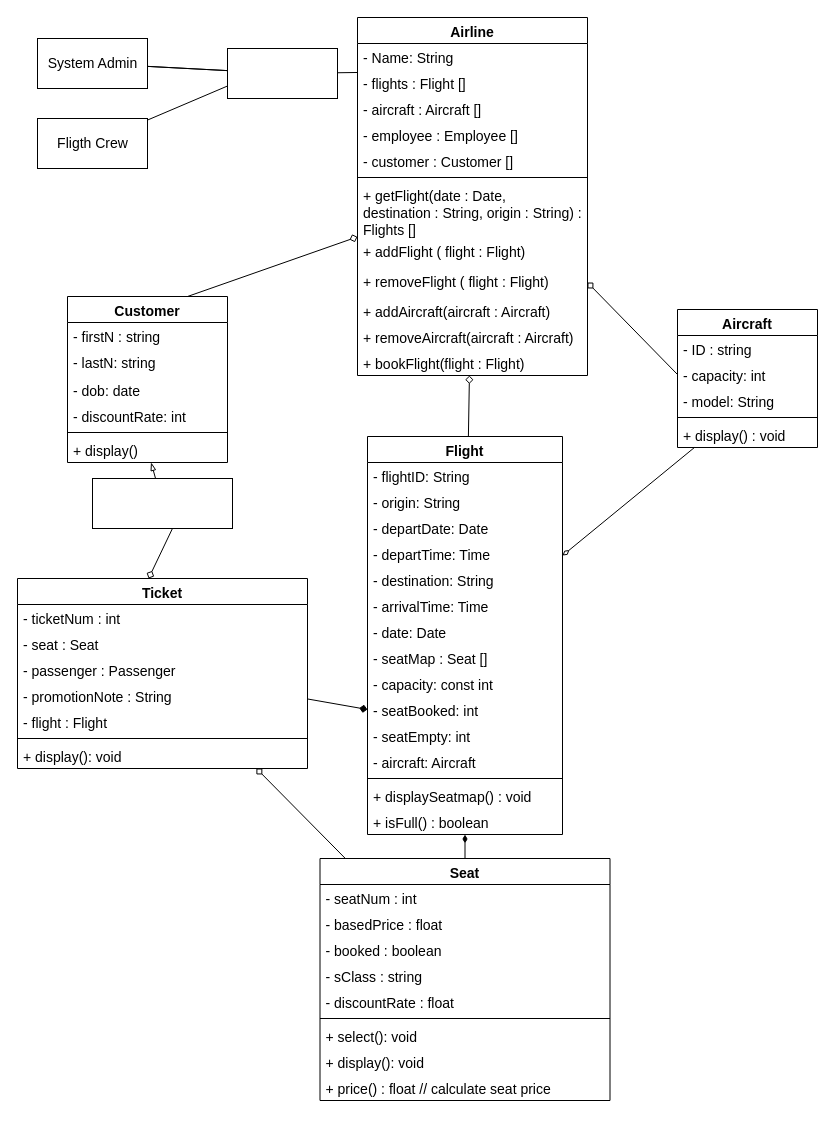
This 835x1121 diagram has some shape labels left out. The centre of each missing label's shape, as x and y in pixels:
"Employee" belongs at pixel 282 73.
"Passenger" belongs at pixel 162 503.
